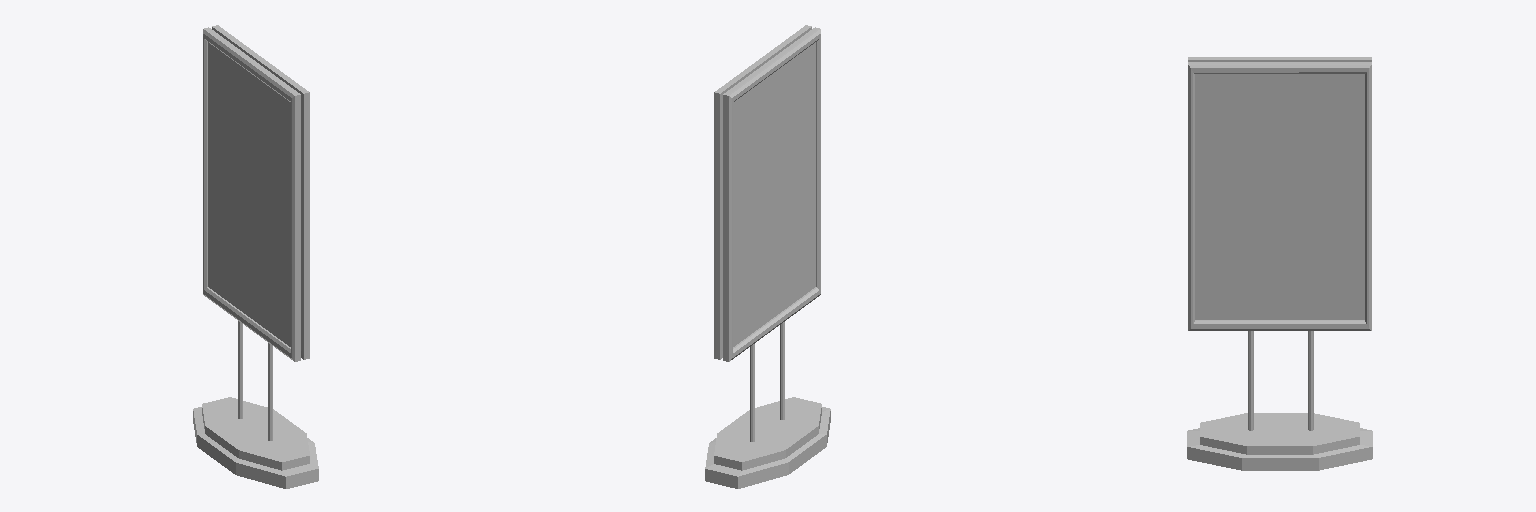
The model's file is sign2.obj.
3 views of the same model, side by side, from view 1: azimuth 30°, elevation 25°; view 2: azimuth 150°, elevation 25°; view 3: azimuth 270°, elevation 25° (orthographic).
Visible parts, largest first — view 1: sign_2; view 2: sign_2; view 3: sign_2.
Boxes of the visible parts, x1,y1,x2,y2 form: sign_2: [193, 25, 318, 488]; sign_2: [705, 25, 830, 488]; sign_2: [1187, 57, 1372, 470].
Size of the model in its own units: 0.9122 by 4.29 by 1.85.